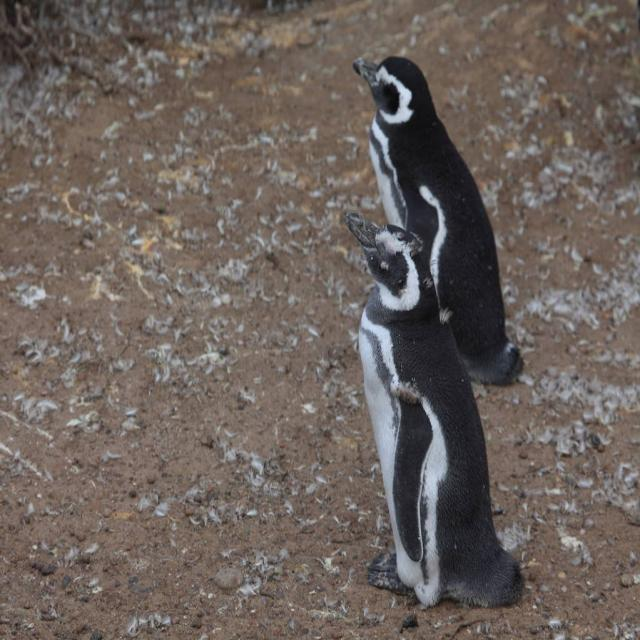Penguins: (341, 205, 524, 612), (352, 48, 521, 376)
